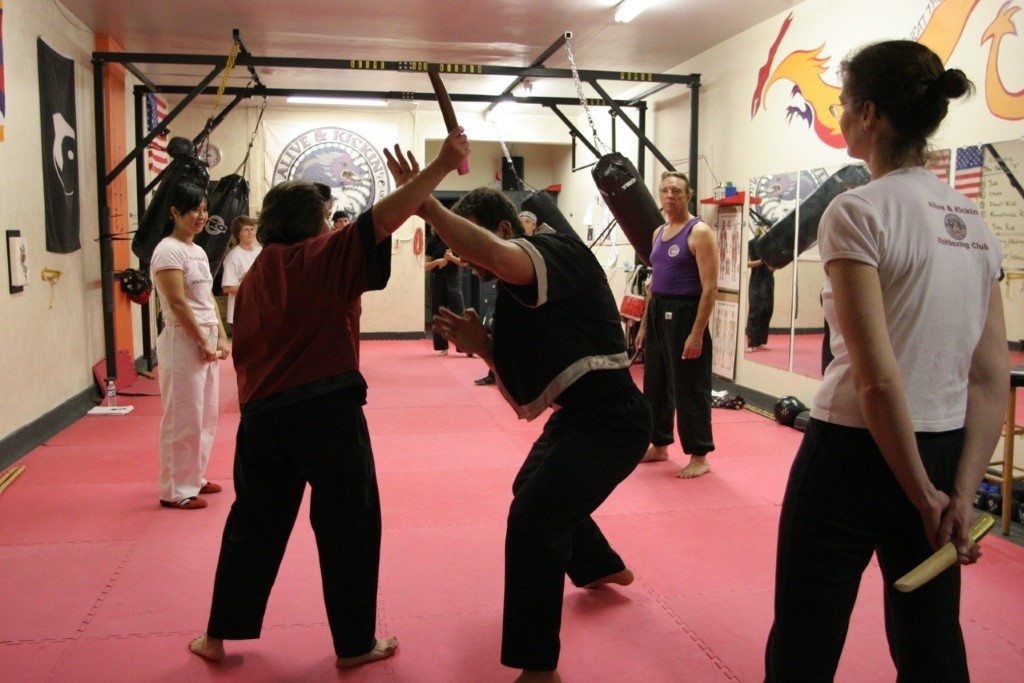baston_e: (913, 512, 982, 592), (426, 76, 469, 167)
baston_v: (891, 574, 916, 597), (979, 506, 997, 534), (455, 161, 473, 178), (422, 66, 442, 80)
